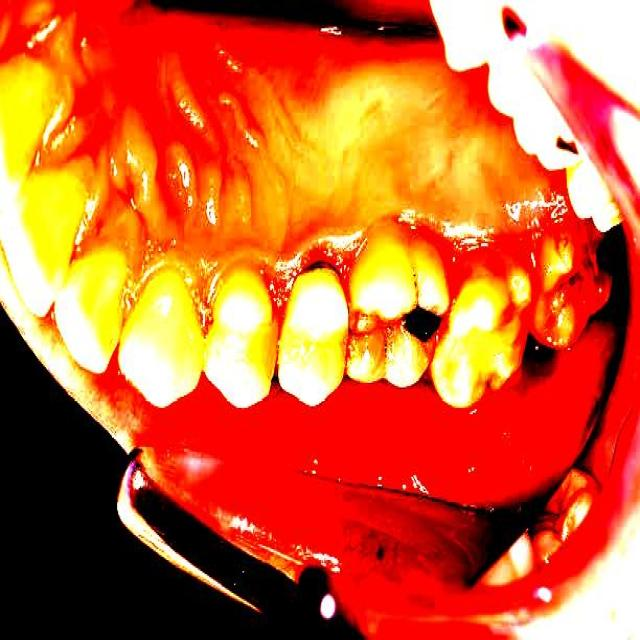caries: (512, 322, 566, 388), (399, 294, 447, 365), (307, 247, 352, 290)
